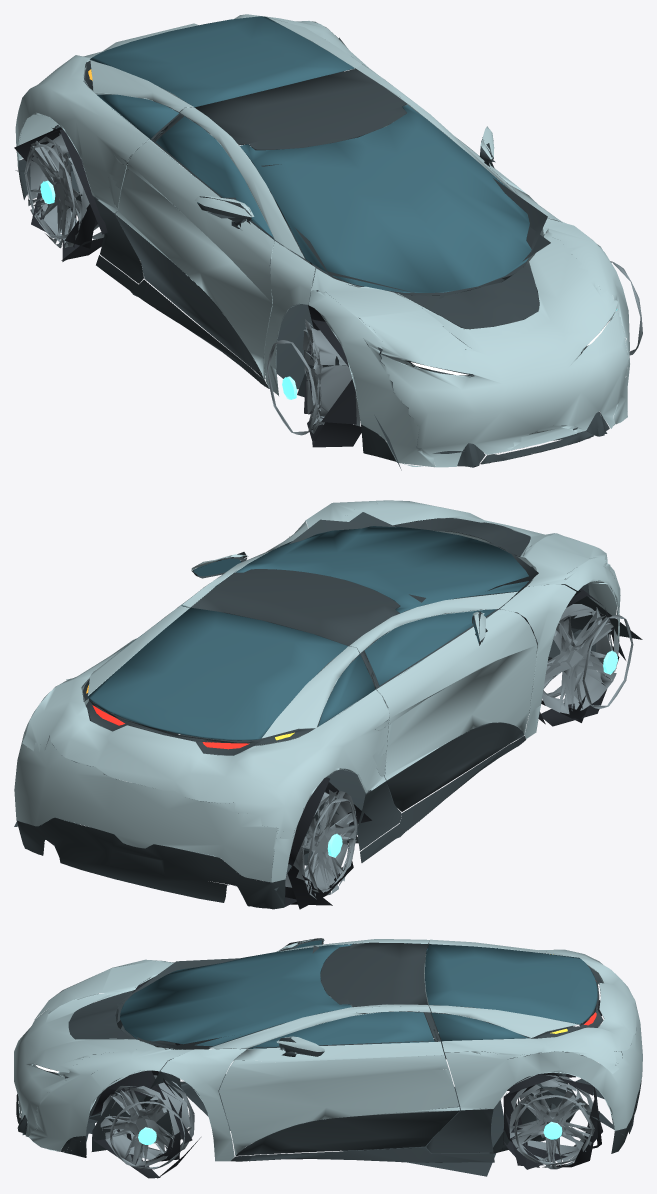
Rendered from sentinel-sedan-lod.glb.
3 renders of one model, top to bottom at view 1: azimuth 30°, elevation 25°; view 2: azimuth 150°, elevation 25°; view 3: azimuth 270°, elevation 25°, orthographic. The views are drawn at different scales.
Visible parts, largest first — view 1: BodyHood, BodyWindshield, BodyDoorRColor1, BodyRearwindow, BodyRearPanelsColor1, BodyRoofPanel, BodyPillars, BodyPanelsColor2, BodyHoodTopgrill, BodyDoorRColor2, BodyDoorRWindow, WheelRearRRim (+10 smaller); view 2: BodyRearPanelsColor1, BodyRearwindow, BodyDoorRColor1, BodyWindshield, BodyPanelsColor2, BodyRoofPanel, BodyHood, BodyPillars, WheelFrontRRim, BodyDoorRColor2, BodyDoorRWindow, WheelRearRRim (+9 smaller); view 3: BodyDoorLColor1, BodyRearPanelsColor1, BodyHood, BodyWindshield, BodyRearwindow, BodyPillars, BodyRoofPanel, BodyDoorLColor2, BodyPanelsColor2, BodyUnderside, WheelFrontLRim, WheelRearLRim (+11 smaller).
Boxes of the visible parts, x1,y1,x2,y2 form: BodyHood: (308,218,629,467); BodyWindshield: (240,105,531,292); BodyDoorRColor1: (115,140,274,379); BodyRearwindow: (90,16,354,107); BodyRearPanelsColor1: (15,14,389,213); BodyRoofPanel: (195,68,406,150); BodyPillars: (180,64,565,395); BodyPanelsColor2: (18,101,593,464); BodyHoodTopgrill: (400,263,539,329); BodyDoorRColor2: (115,214,263,378); BodyDoorRWindow: (156,116,274,239); WheelRearRRim: (26,134,104,248); BodyRearPanelsColor1: (14,605,389,882); BodyRearwindow: (87,607,347,740); BodyDoorRColor1: (376,609,537,780); BodyWindshield: (236,526,528,613); BodyPanelsColor2: (16,639,619,909); BodyRoofPanel: (191,569,400,646); BodyHood: (305,500,620,640); BodyPillars: (176,521,576,738); WheelFrontRRim: (533,604,619,714); BodyDoorRColor2: (386,722,524,811); BodyDoorRWindow: (364,609,495,685); WheelRearRRim: (285,789,358,899); BodyDoorLColor1: (219,1041,459,1155); BodyRearPanelsColor1: (429,939,642,1130); BodyHood: (14,959,193,1151); BodyWindshield: (120,944,352,1046); BodyRearwindow: (425,944,597,1024); BodyPillars: (160,939,430,1161); BodyRoofPanel: (320,942,427,1006); BodyDoorLColor2: (236,1110,459,1155); BodyPanelsColor2: (16,1015,641,1162); BodyUnderside: (22,977,624,1176); WheelFrontLRim: (100,1075,194,1167); WheelRearLRim: (509,1075,594,1169).
Bounding box in the file's own units: 2.19 × 1.32 × 4.6.
